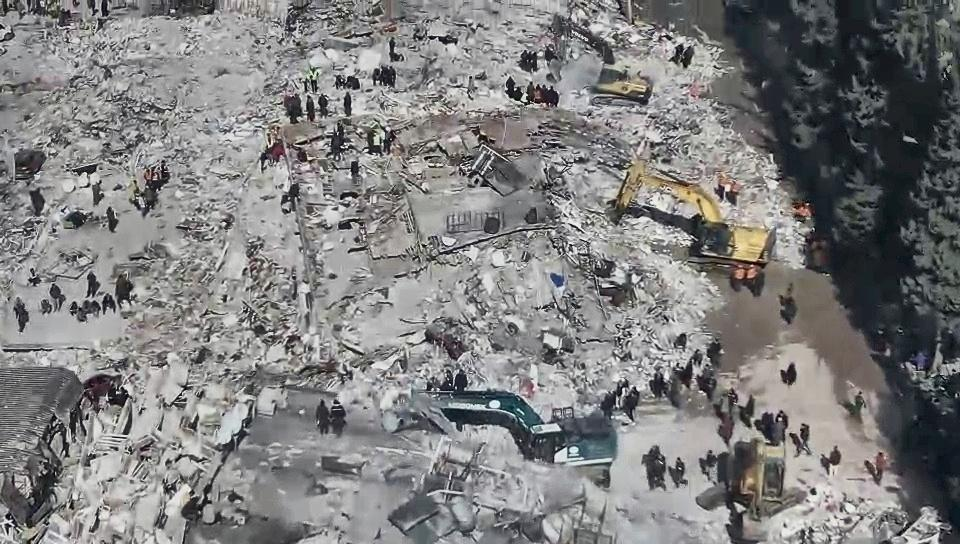kapali: (570, 0, 874, 368), (605, 420, 959, 543)
